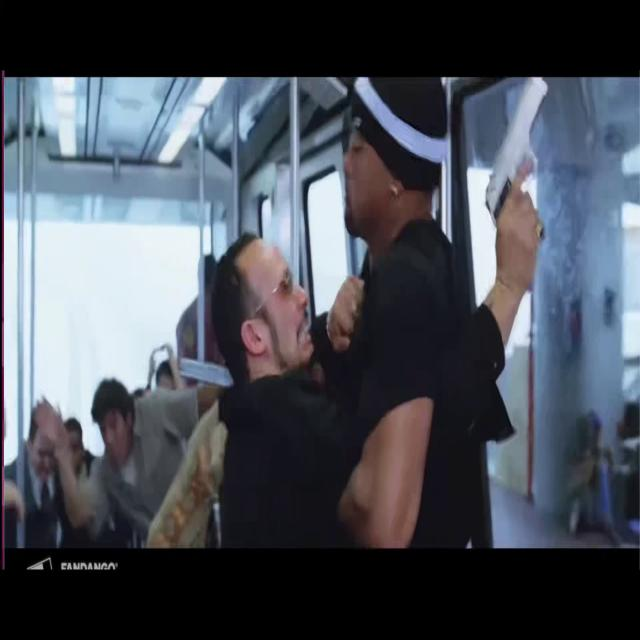weapons: (481, 74, 561, 265)
